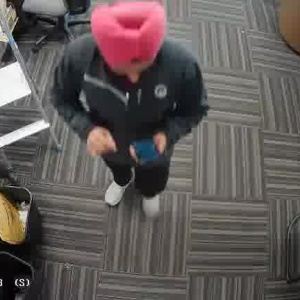person: (62, 6, 196, 217)
